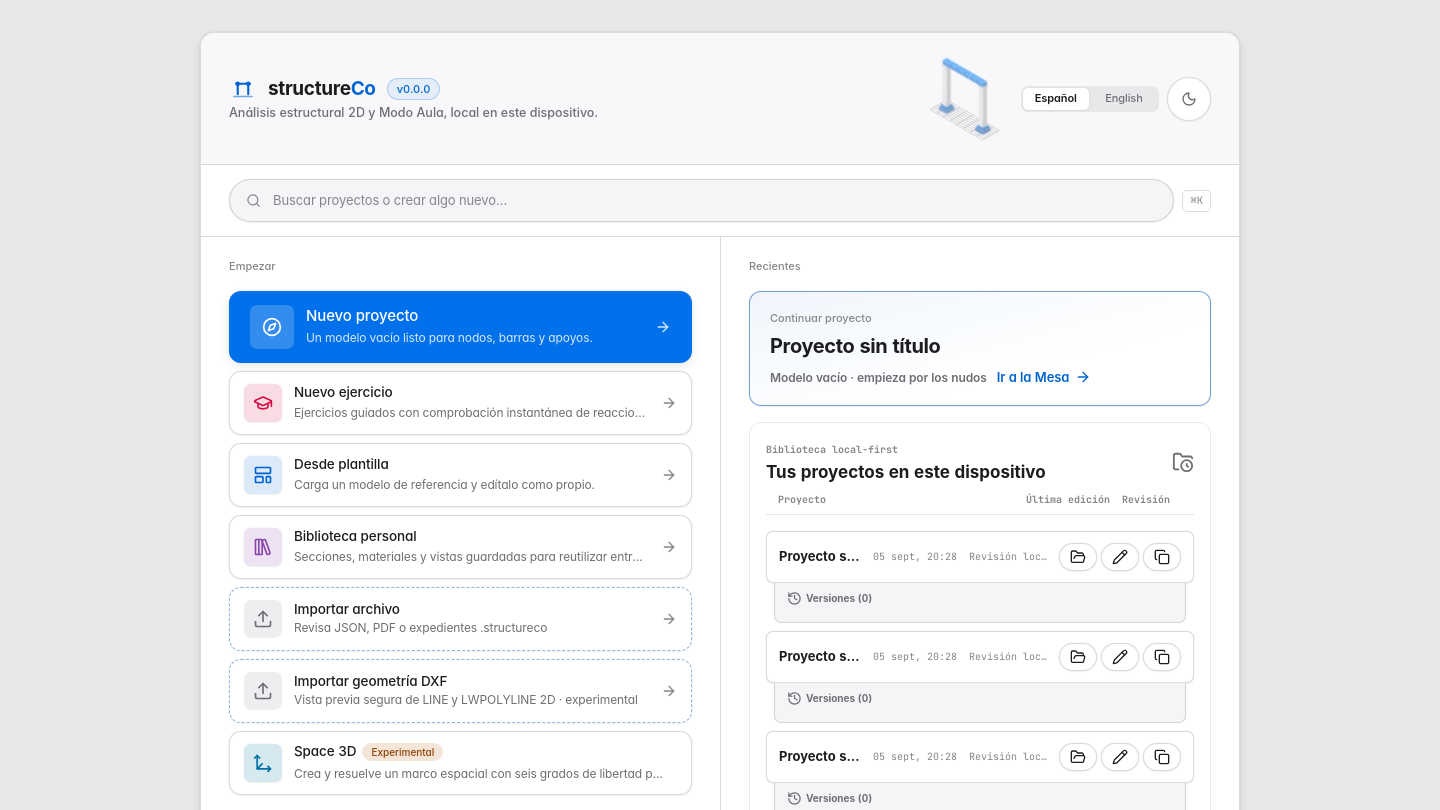
WelcomeScreen · el buscador › dice que no hay resultados en vez de dejar la columna muda
This screenshot has width=1440, height=810.
Type "zzzzz" into the field labelled "Buscar proyectos o crear algo nuevo…" at x=714, y=201, box [271,190,1157,211]
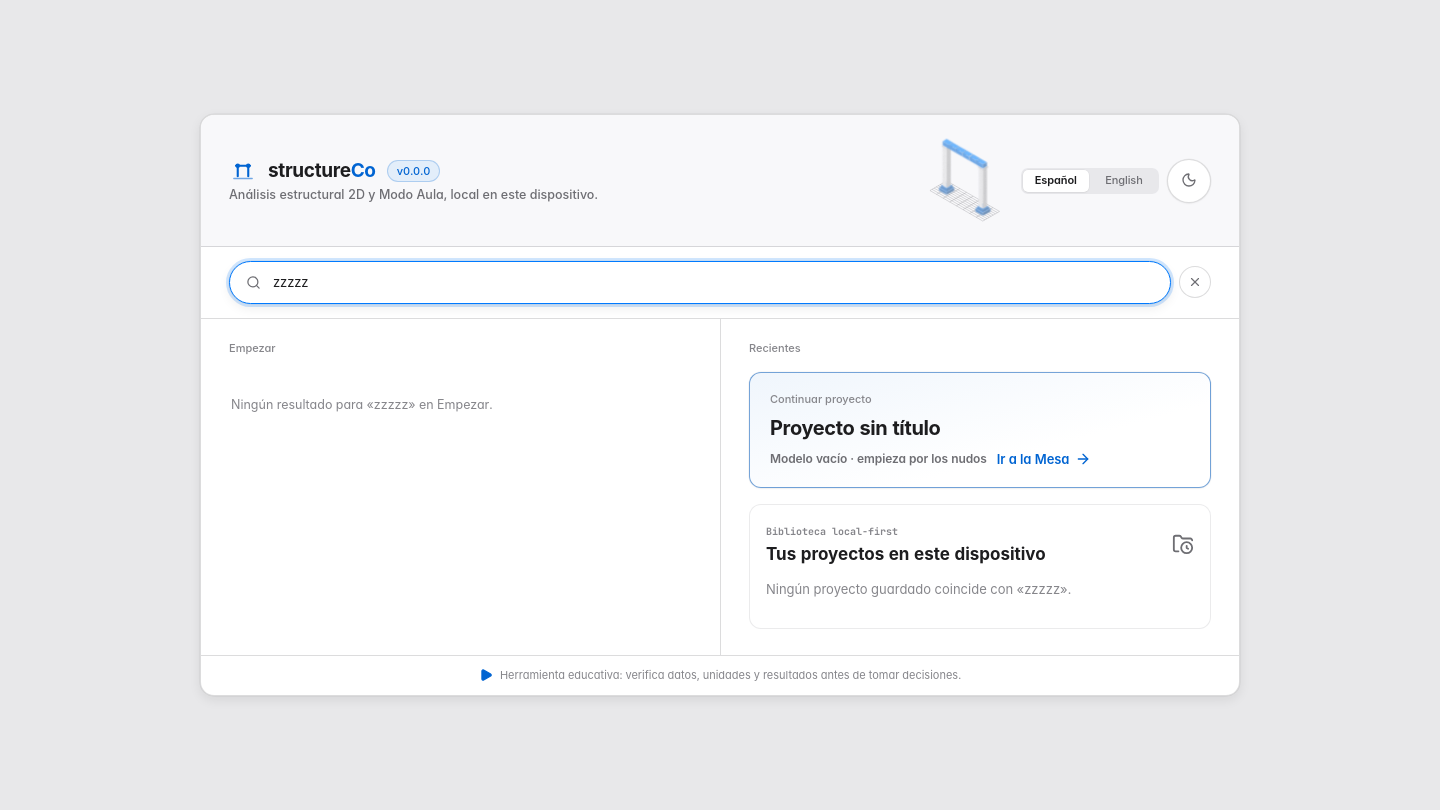
Expected: the text "Ningún resultado para «zzzzz» en Empezar." is shown, [231,397,493,412]
